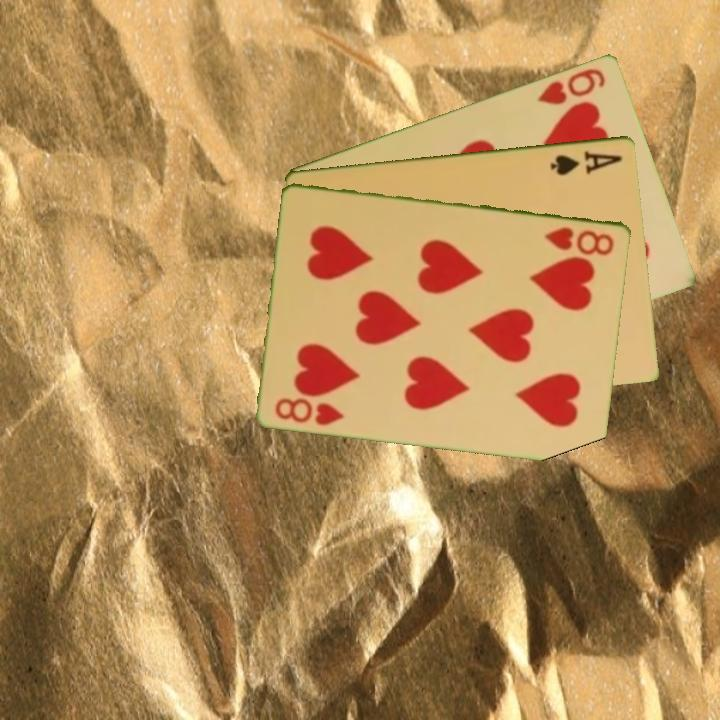6h: (534, 64, 609, 108)
8h: (542, 223, 618, 257), (272, 394, 347, 428)
As: (547, 146, 625, 178)
